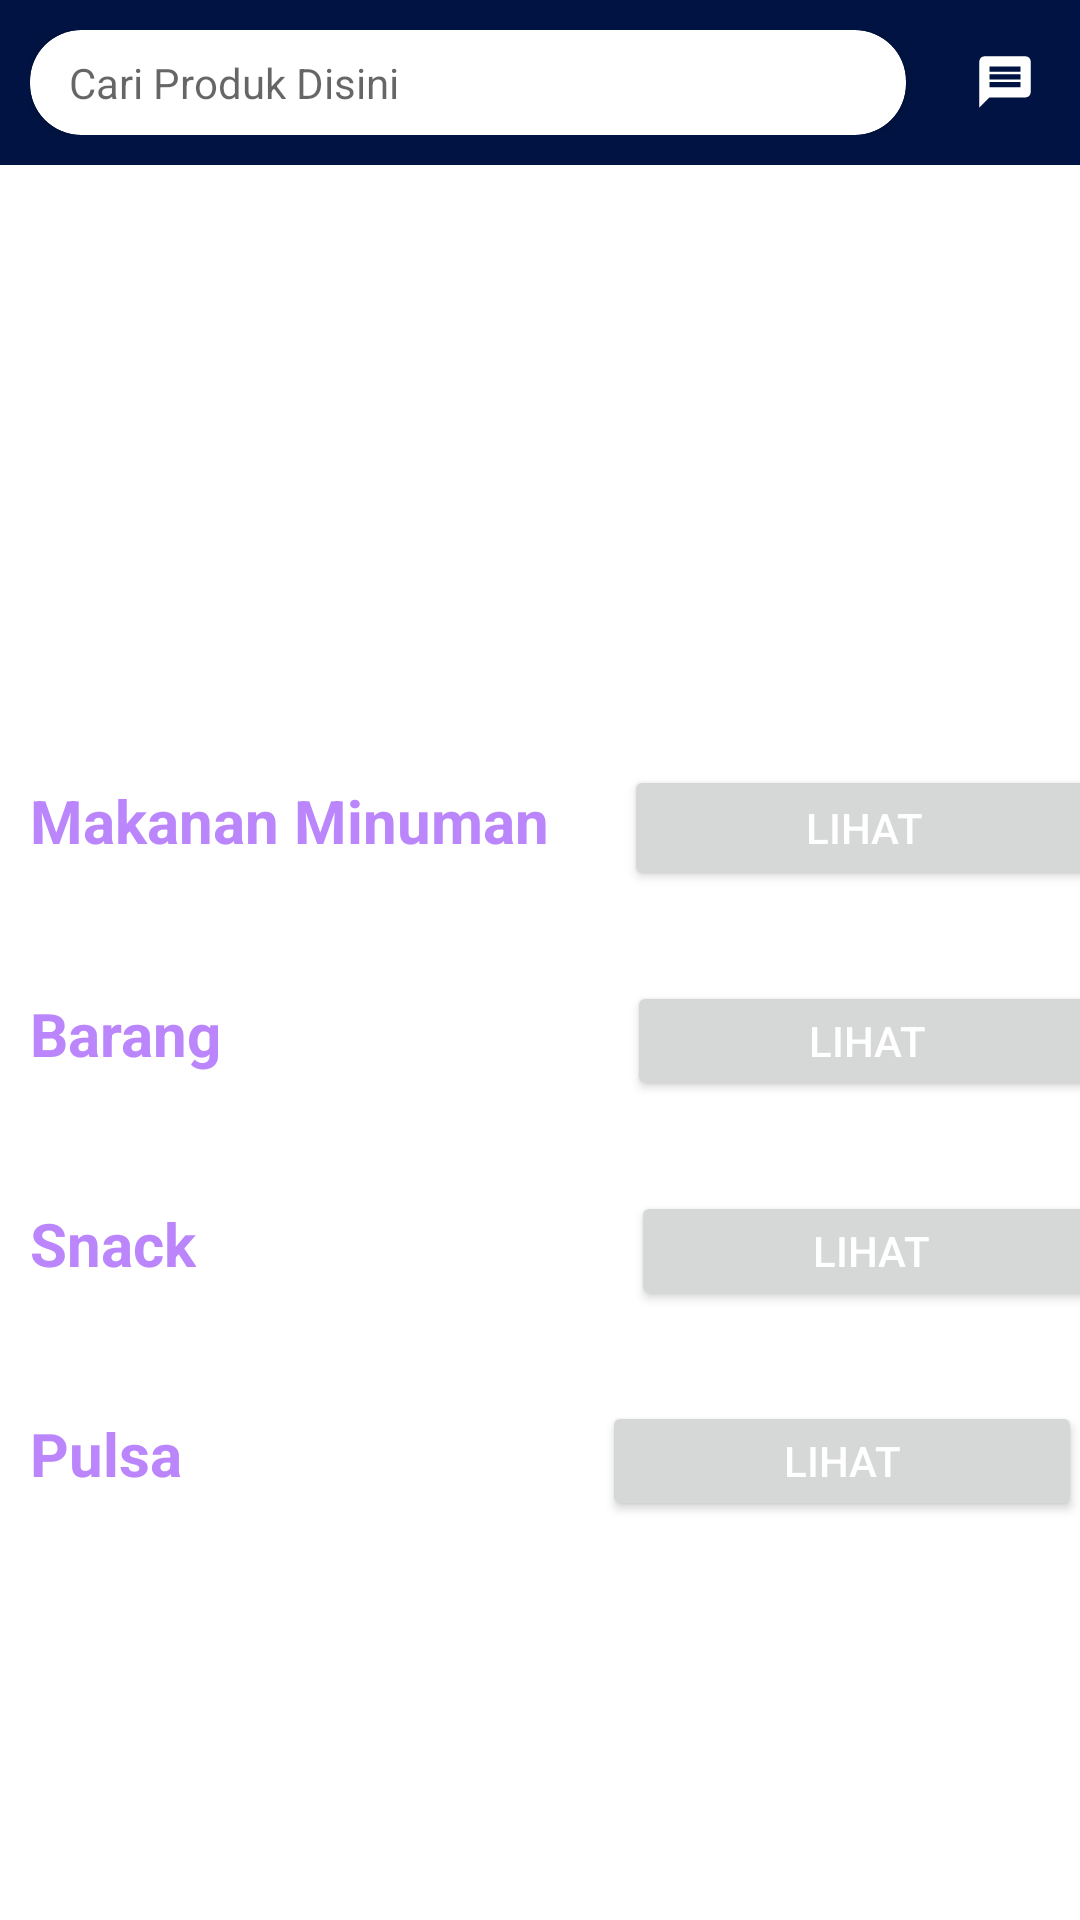

Icons on this 1080w x 1920h Android screen, each with its box as [x1=x1, y1=y1, x2=x2, y2=y2]:
pesan: [x1=979, y1=56, x2=1031, y2=108]
